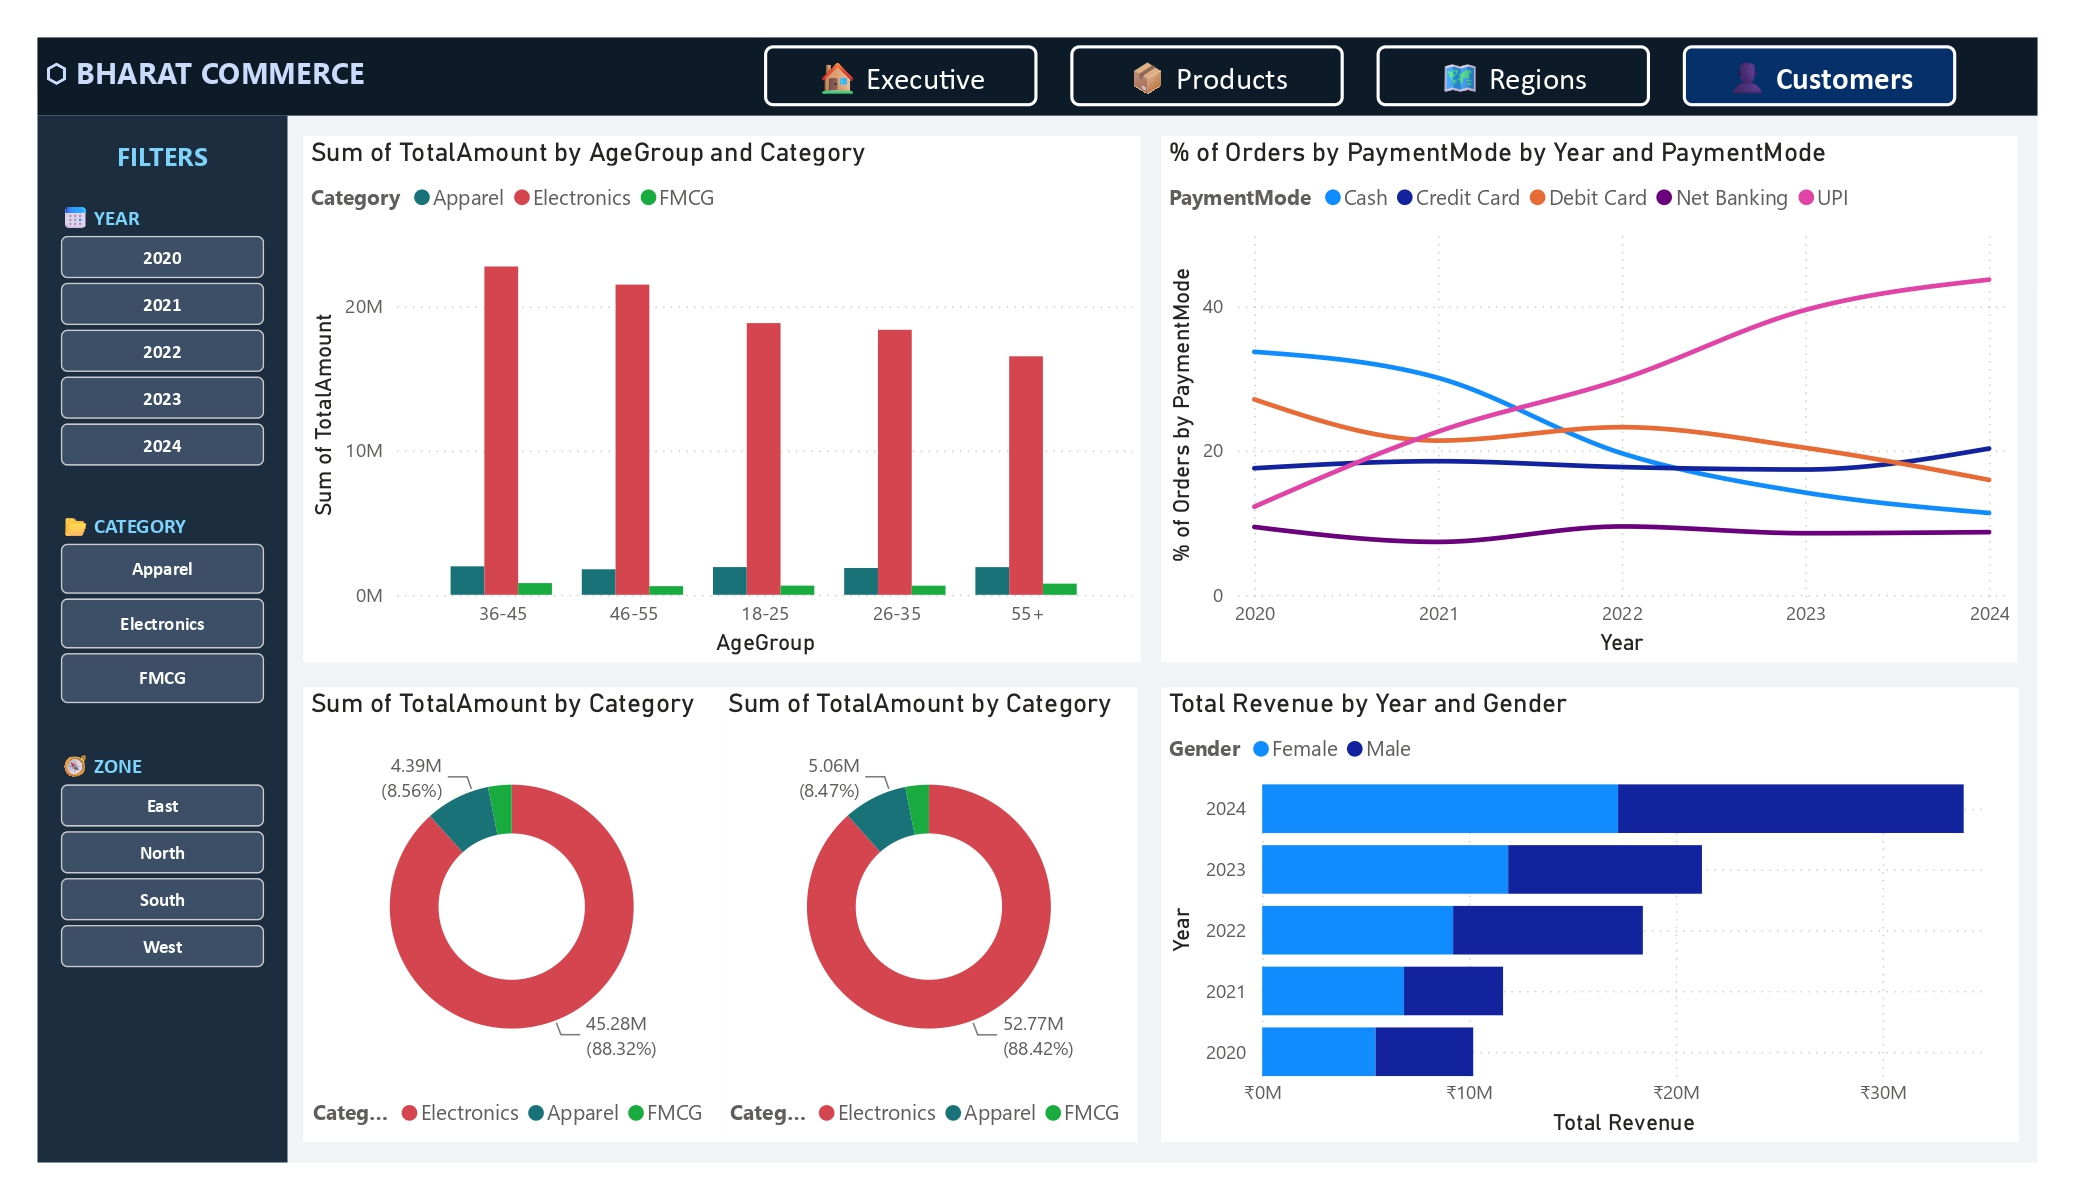

Layout of this report page (visuals, bound fields, positions):
{"tool":"powerbi","page":{"name":"👤 Customers","canvas":[1280,720],"ordinal":3},"visuals":[{"type":"shape","box":[0,0,1280.3,50],"z":0},{"type":"textbox","box":[0,5.5,242.7,40.9],"z":1000},{"type":"shape","box":[0,50,160,670],"z":2000},{"type":"clusteredColumnChart","fields":{"Category":["Customers.AgeGroup"],"Y":["Sum(SalesTransactions.TotalAmount)"],"Series":["Products.Category"]},"box":[170,62.9,535.7,337.1],"z":3000},{"type":"lineChart","fields":{"Category":["DimDate.Year"],"Y":["Measures Table.% of Orders by PaymentMode"],"Series":["SalesTransactions.PaymentMode"]},"box":[718.6,62.9,548.6,337.1],"z":4000},{"type":"donutChart","fields":{"Y":["Sum(SalesTransactions.TotalAmount)"],"Category":["Products.Category"]},"box":[170,415.7,267.1,291.4],"z":5000},{"type":"donutChart","fields":{"Y":["Sum(SalesTransactions.TotalAmount)"],"Category":["Products.Category"]},"box":[437.1,415.7,267.1,291.4],"z":6000},{"type":"barChart","fields":{"Category":["DimDate.Year"],"Y":["Measures Table.Total Revenue"],"Series":["Customers.Gender"]},"box":[719,416,549,291],"z":7000},{"type":"textbox","box":[10,60,140,33.2],"z":8000},{"type":"advancedSlicerVisual","title":"📅 YEAR","fields":{"Values":["DimDate.Year"]},"box":[10,105.8,140,173.7],"z":9000},{"type":"advancedSlicerVisual","title":"📂 CATEGORY","fields":{"Values":["Products.Category"]},"box":[10,303.1,140,130],"z":10000},{"type":"advancedSlicerVisual","title":"🧭 ZONE","fields":{"Values":["Regions.Zone"]},"box":[10,456.7,140,145.6],"z":11000},{"type":"actionButton","box":[1052.5,5,175,38.8],"z":12000},{"type":"actionButton","box":[856.7,5,175,38.8],"z":13000},{"type":"actionButton","box":[660.8,5,175,38.8],"z":14000},{"type":"actionButton","box":[465,5,175,38.8],"z":15000}]}

Visuals, with their boxes on the page's 1280x720 design canvas (x1, y1, x2, y2). These are canvas units, not pixel positions in the 2075x1200 screenshot, which may show the page scaled, cropped or inside an application window:
shape: [0, 0, 1280, 50]
textbox: [0, 6, 243, 46]
shape: [0, 50, 160, 720]
clusteredColumnChart - Customers.AgeGroup x Sum(SalesTransactions.TotalAmount): [170, 63, 706, 400]
lineChart - DimDate.Year x Measures Table.% of Orders by PaymentMode: [719, 63, 1267, 400]
donutChart - Sum(SalesTransactions.TotalAmount) x Products.Category: [170, 416, 437, 707]
donutChart - Sum(SalesTransactions.TotalAmount) x Products.Category: [437, 416, 704, 707]
barChart - DimDate.Year x Measures Table.Total Revenue: [719, 416, 1268, 707]
textbox: [10, 60, 150, 93]
"📅 YEAR" advancedSlicerVisual: [10, 106, 150, 280]
"📂 CATEGORY" advancedSlicerVisual: [10, 303, 150, 433]
"🧭 ZONE" advancedSlicerVisual: [10, 457, 150, 602]
actionButton: [1052, 5, 1228, 44]
actionButton: [857, 5, 1032, 44]
actionButton: [661, 5, 836, 44]
actionButton: [465, 5, 640, 44]
